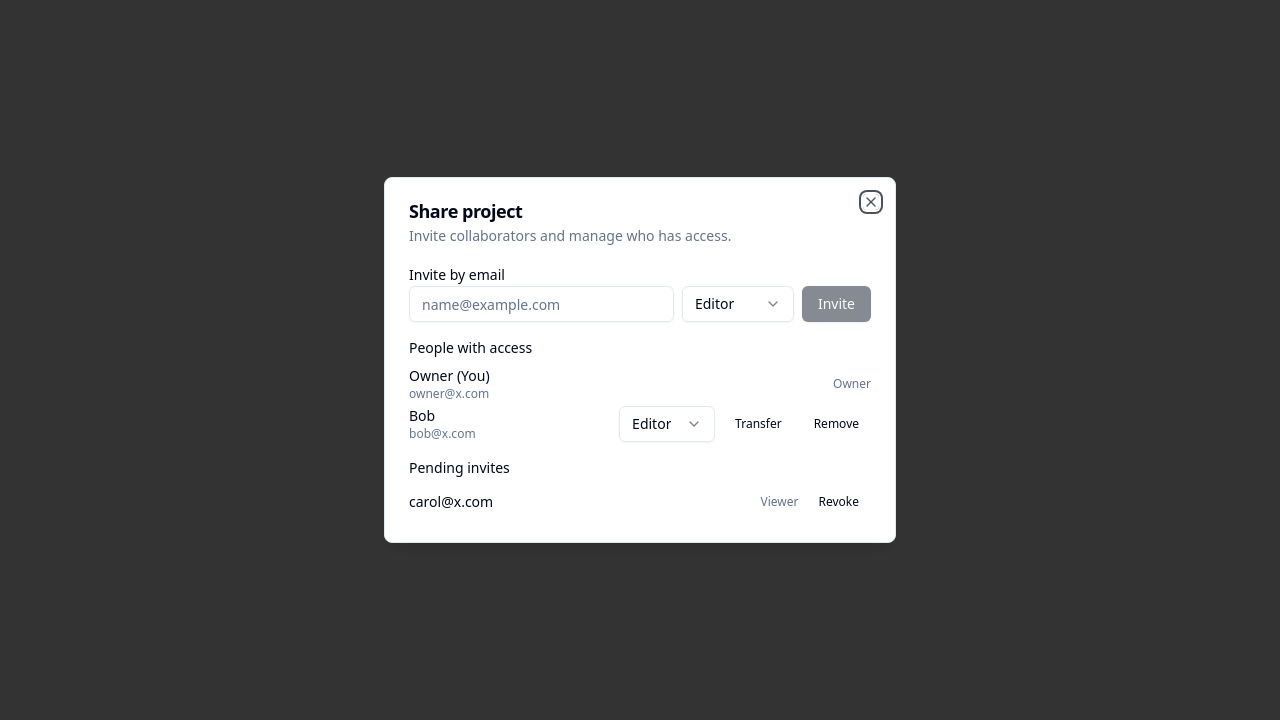
it: ShareDialog (owner) › validates the email before enabling Invite
This screenshot has width=1280, height=720.
Expected: the text "Bob" is shown, [409,406,435,425]
Expected: the button "Invite" is disabled, [802,286,871,322]
In the field labelled "Invite by email": [541, 304] box [409,286,674,322], type "not-an-email"
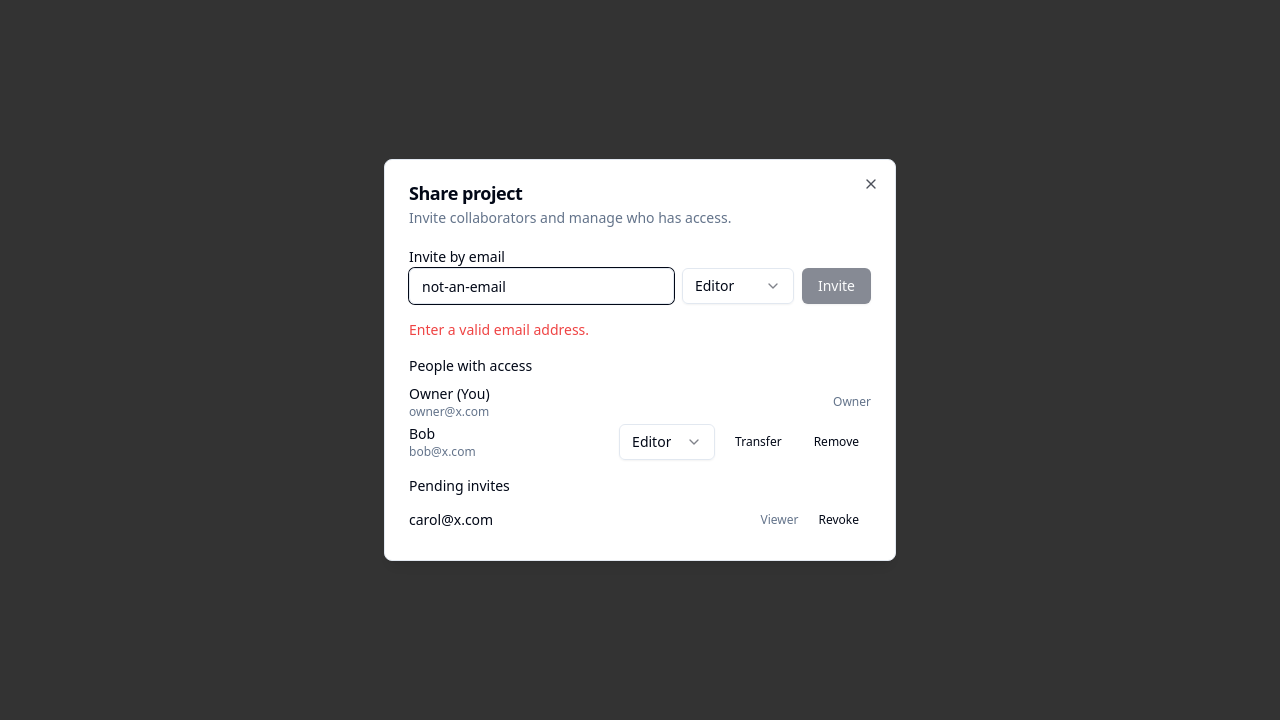
Expected: the button "Invite" is disabled, [802,268,871,304]
Now the text "Enter a valid email address." is shown, box [409,320,589,339]
